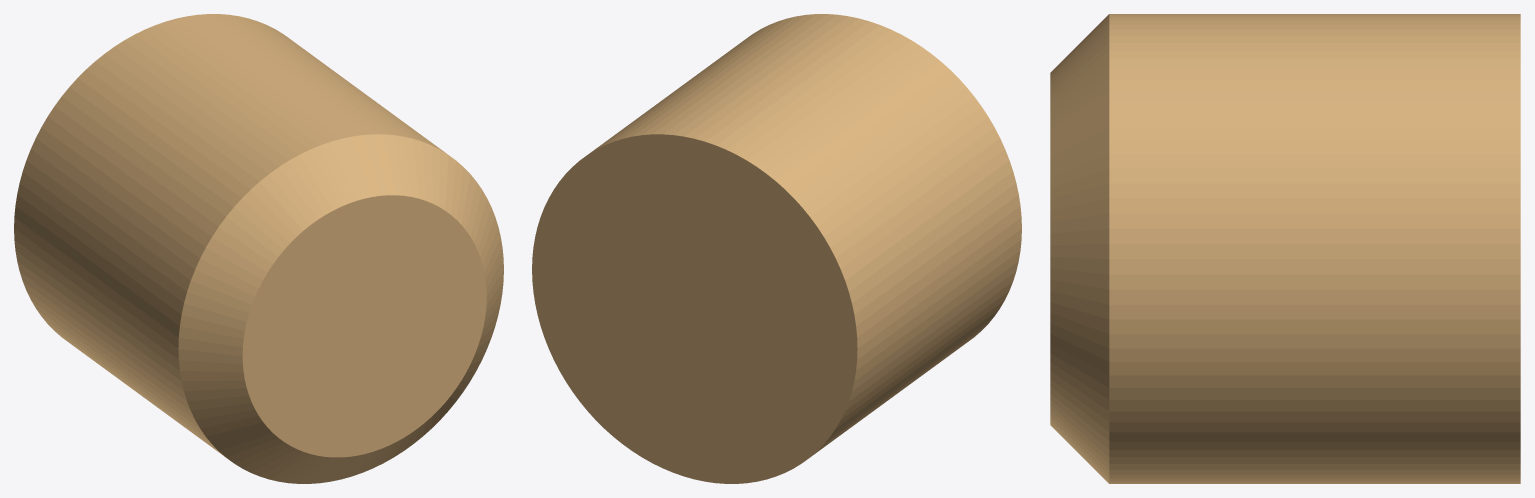
File: chamfer_cutter_demo.glb
The picture shows the model from 3 angles, left to right: view 1: azimuth 30°, elevation 25°; view 2: azimuth 150°, elevation 25°; view 3: azimuth 270°, elevation 25°; orthographic projection. The views are drawn at different scales.
Visible parts, largest first — view 1: chamfered_pin; view 2: chamfered_pin; view 3: chamfered_pin.
Boxes of the visible parts, <box> form: chamfered_pin: <box>14,14,503,483</box>; chamfered_pin: <box>532,14,1021,483</box>; chamfered_pin: <box>1050,14,1520,483</box>.
Size of the model in its own units: 12 by 12 by 12.
